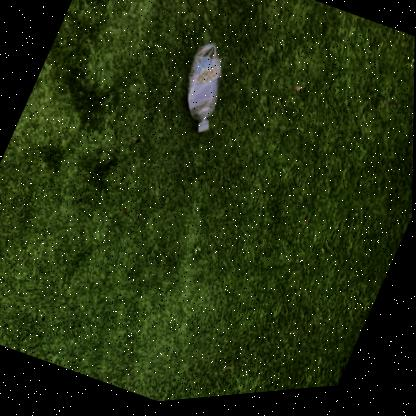Plastic: (186, 46, 220, 135)
